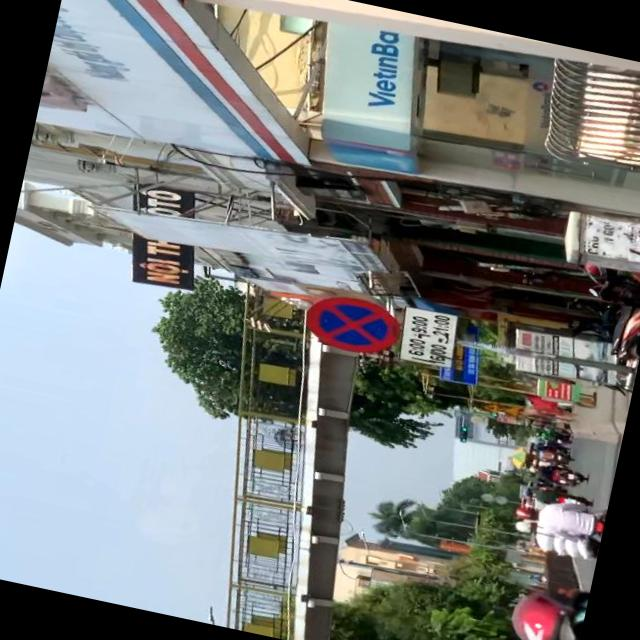P-130: (299, 288, 404, 359)
